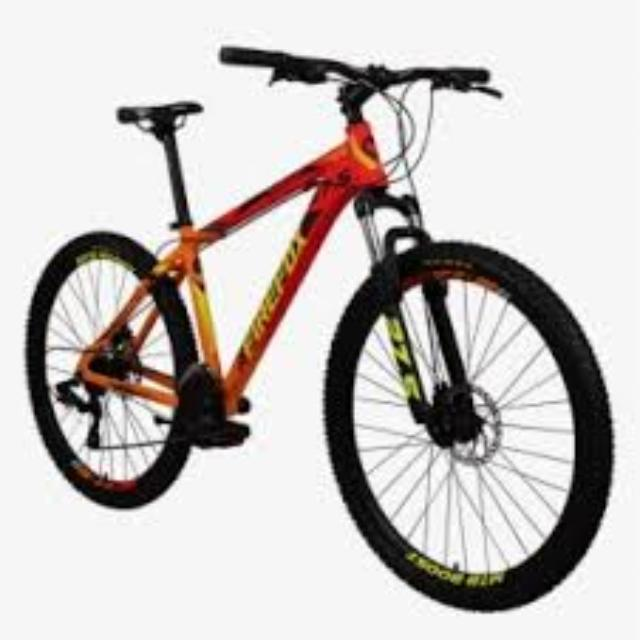obstacle: (19, 11, 625, 621)
